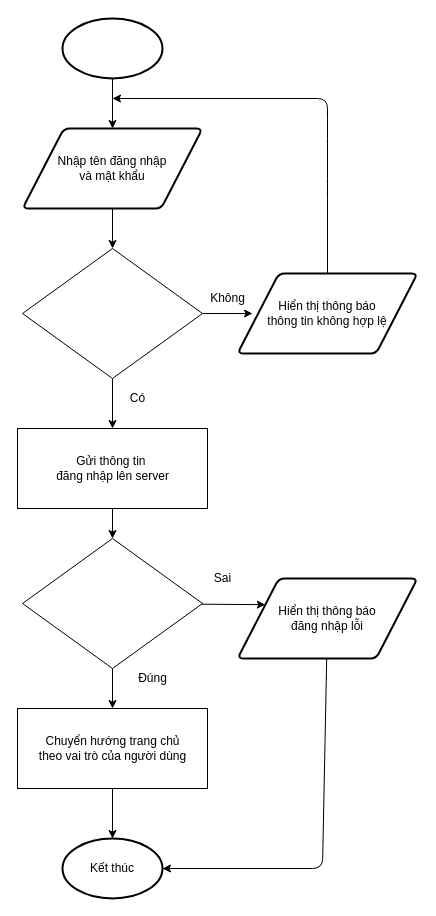
This 436x916 diagram has some shape labels left out. Here are the shapes that lost their labels. From the top down, the centre of each, then its label:
the point at 112,48: Bắt đầu
the point at 112,313: Kiểm tra tên đăng nhập và mật khẩu hợp lệ ?
the point at 112,603: Server kiểm tra thông tin đăng nhập đúng ?
